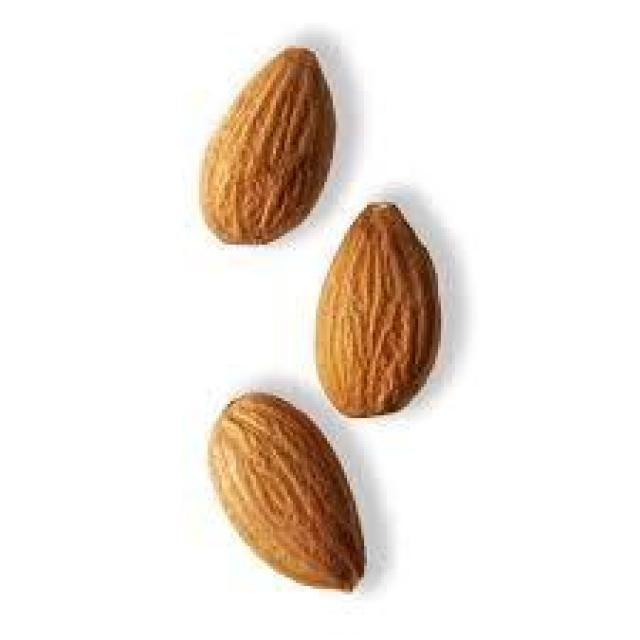cekirdek: (138, 56, 514, 589)
